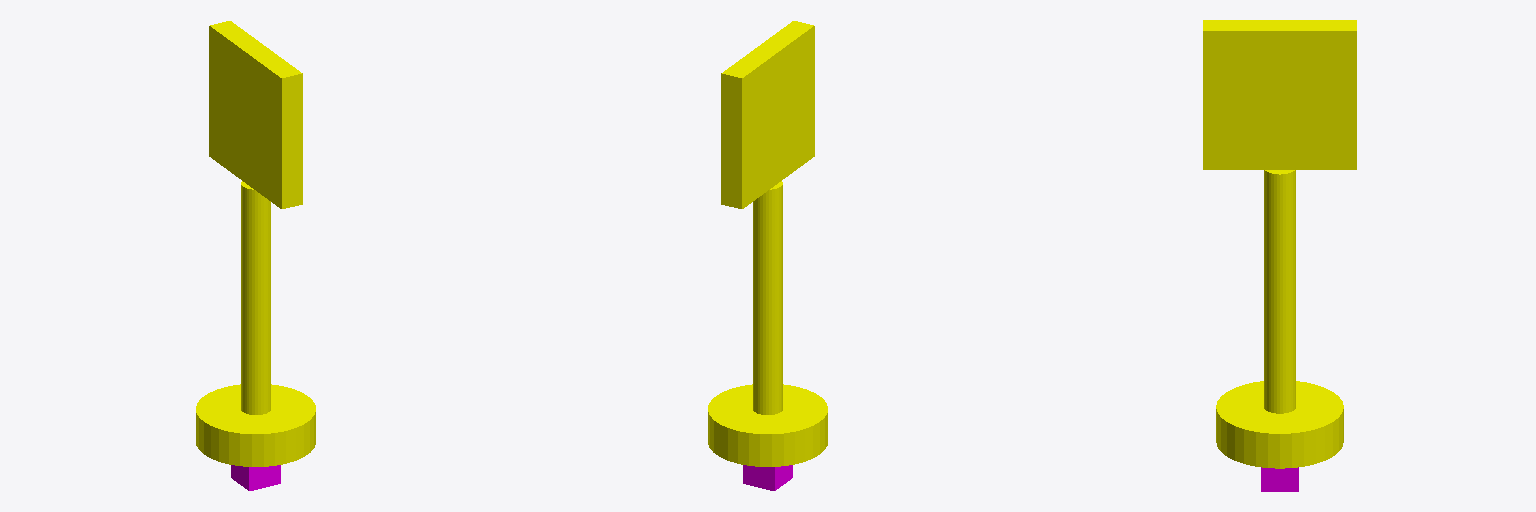
URDF robot description (mearm):
<?xml version="1.0" ?>
<robot name="mearm">
    <link name="base_link">
        <visual>
            <geometry>
                <box size="0.03 0.03 0.036" />
            </geometry>
            <material name="cyan">
                <color rgba="1 0 1 1" />
            </material>
            <origin rpy="0 0 0" xyz="0 0 0.018" />
        </visual>
        <collision>
            <geometry>
                <box size="0.03 0.03 0.036" />
            </geometry>
            <origin rpy="0 0 0" xyz="0 0 0.018" />
        </collision>
        <inertial>
            <mass value="0.1" />
            <origin xyz="0 0 0" rpy="0 0 0" />
            <inertia ixx="0.03" iyy="0.03" izz="0.03" ixy="0.0" ixz="0.0" iyz="0.0" />
        </inertial>
    </link>
    <link name="link1">
        <visual>
            <geometry>
                <cylinder length="0.03" radius="0.05" />
            </geometry>
            <material name="yellow">
                <color rgba="1 1 0 1" />
            </material>
            <origin rpy="0 0 0" xyz="0 0 0.015" />
        </visual>
        <collision>
            <geometry>
                <cylinder length="0.03" radius="0.05" />
            </geometry>
            <origin rpy="0 0 0" xyz="0 0 0.015" />
        </collision>
        <inertial>
            <mass value="0.1" />
            <origin xyz="0 0 0" rpy="0 0 0" />
            <inertia ixx="0.03" iyy="0.03" izz="0.03" ixy="0.0" ixz="0.0" iyz="0.0" />
        </inertial>
    </link>
    <link name="link2">
        <visual>
            <geometry>
                <cylinder length="0.102" radius="0.0125" />
            </geometry>
            <material name="yellow" />
            <origin rpy="0 0 0" xyz="0 0 0.051" />
        </visual>
        <collision>
            <geometry>
                <cylinder length="0.102" radius="0.0125" />
            </geometry>
            <origin rpy="0 0 0" xyz="0 0 0.051" />
        </collision>
        <inertial>
            <mass value="0.1" />
            <origin xyz="0 0 0" rpy="0 0 0" />
            <inertia ixx="0.03" iyy="0.03" izz="0.03" ixy="0.0" ixz="0.0" iyz="0.0" />
        </inertial>
    </link>
    <link name="link3">
        <visual>
            <geometry>
                <cylinder length="0.107" radius="0.0125" />
            </geometry>
            <material name="yellow" />
            <origin rpy="0 0 0" xyz="0 0 0.051" />
        </visual>
        <collision>
            <geometry>
                <cylinder length="0.107" radius="0.0125" />
            </geometry>
            <origin rpy="0 0 0" xyz="0 0 0.0535" />
        </collision>
        <inertial>
            <mass value="0.1" />
            <origin xyz="0 0 0" rpy="0 0 0" />
            <inertia ixx="0.03" iyy="0.03" izz="0.03" ixy="0.0" ixz="0.0" iyz="0.0" />
        </inertial>
    </link>
    <link name="gripper">
        <visual>
            <geometry>
                <box size="0.02 0.12 0.12" />
            </geometry>
            <material name="yellow" />
            <origin rpy="0 0 0" xyz="0 0 0.06" />
        </visual>
        <collision>
            <geometry>
                <box size="0.02 0.12 0.12" />
            </geometry>
            <origin rpy="0 0 0" xyz="0 0 0.06" />
        </collision>
        <inertial>
            <mass value="0.1" />
            <origin xyz="0 0 0" rpy="0 0 0" />
            <inertia ixx="0.03" iyy="0.03" izz="0.03" ixy="0.0" ixz="0.0" iyz="0.0" />
        </inertial>
    </link>
    <!--
  <link name="upper_arm">
    <visual>
      <geometry>
        <cylinder length="0.8" radius="0.05"/>
      </geometry>
      <material name="yellow"/>
      <origin rpy="0 0 0" xyz="0 0 0.4"/>
    </visual>
	<collision>
      <geometry>
        <cylinder length="0.8" radius="0.05"/>
      </geometry>
      <origin rpy="0 0 0" xyz="0 0 0.4"/>
    </collision>
  </link>

  <link name="hand">
    <visual>
      <geometry>
        <box size="0.05 0.05 0.05"/>
      </geometry>
      <material name="yellow"/>
    </visual>
    <collision>
      <geometry>
        <box size="0.05 0.05 0.05"/>
      </geometry>
      <origin rpy="0 0 0" xyz="0 0 0"/>
    </collision>
  </link>


-->
    <!--
  <joint name="fixed" type="fixed">
    <parent link="world"/>
    <child link="base_link"/>
  </joint>
-->
    <joint name="shoulder" type="revolute">
        <axis xyz="0 0 1" />
        <parent link="base_link" />
        <child link="link1" />
        <origin rpy="0 0 0" xyz="0.0 0.0 0.036" />
        <limit effort="30" velocity="1.0" lower="-2.094" upper="2.094" />
    </joint>
    <joint name="arm" type="revolute">
        <origin rpy="0 0 0" xyz="0 0 0.03" />
        <parent link="link1" />
        <child link="link2" />
        <axis xyz="0 1 0" />
        <limit effort="30" velocity="1.0" lower="-1.57" upper="1.57" />
    </joint>
    <joint name="arm2" type="revolute">
        <origin rpy="0 0 0" xyz="0 0 0.102" />
        <parent link="link2" />
        <child link="link3" />
        <axis xyz="0 1 0" />
        <limit effort="30" velocity="1.0" lower="-2.094" upper="2.094" />
    </joint>
    <joint name="gripper_joint" type="revolute">
        <origin rpy="0 0 0" xyz="0 0 0.107" />
        <parent link="link3" />
        <child link="gripper" />
        <axis xyz="0 1 0" />
        <limit effort="30" velocity="1.0" lower="-2.094" upper="2.094" />
    </joint>
    <!--
  <joint name="elbow" type="revolute">
    <origin rpy="0 0 0" xyz="0.0 0.0 0.8"/>
    <parent link="lower_arm"/>
    <child link="upper_arm"/>
    <axis xyz="0 1 0"/>
    <limit effort="30" velocity="1.0" lower="1.54" upper="2.75" />
  </joint>    

  <joint name="wrist" type="revolute">
    <axis xyz="1 0 0"/>
    <parent link="lower_arm"/>
    <child link="hand"/>
    <origin rpy="0 0 0" xyz="0.0 0.0 0.805"/>
    <limit effort="30" velocity="1.0" lower="0.0" upper="2.7" />
  </joint>
-->
    <transmission name="trans_shoulder">
        <type>transmission_interface/SimpleTransmission</type>
        <joint name="shoulder">
            <hardwareInterface>hardware_interface/EffortJointInterface</hardwareInterface>
        </joint>
        <actuator name="shoulder_motor">
            <hardwareInterface>hardware_interface/EffortJointInterface</hardwareInterface>
            <mechanicalReduction>1</mechanicalReduction>
        </actuator>
    </transmission>
    <transmission name="trans_arm">
        <type>transmission_interface/SimpleTransmission</type>
        <joint name="arm">
            <hardwareInterface>hardware_interface/EffortJointInterface</hardwareInterface>
        </joint>
        <actuator name="arm_motor">
            <hardwareInterface>hardware_interface/EffortJointInterface</hardwareInterface>
            <mechanicalReduction>1</mechanicalReduction>
        </actuator>
    </transmission>
    <transmission name="trans_arm2">
        <type>transmission_interface/SimpleTransmission</type>
        <joint name="arm2">
            <hardwareInterface>hardware_interface/EffortJointInterface</hardwareInterface>
        </joint>
        <actuator name="arm2_motor">
            <hardwareInterface>hardware_interface/EffortJointInterface</hardwareInterface>
            <mechanicalReduction>1</mechanicalReduction>
        </actuator>
    </transmission>
    <transmission name="trans_gripper_joint">
        <type>transmission_interface/SimpleTransmission</type>
        <joint name="gripper_joint">
            <hardwareInterface>hardware_interface/EffortJointInterface</hardwareInterface>
        </joint>
        <actuator name="gripper_joint_motor">
            <hardwareInterface>hardware_interface/EffortJointInterface</hardwareInterface>
            <mechanicalReduction>1</mechanicalReduction>
        </actuator>
    </transmission>
    <gazebo>
        <plugin name="gazebo_ros_control">
            <robotNamespace>/</robotNamespace>
        </plugin>
    </gazebo>
</robot>

--- Render facts (derived) ---
The picture shows the robot from 3 angles, left to right: view 1: azimuth 30°, elevation 25°; view 2: azimuth 150°, elevation 25°; view 3: azimuth 270°, elevation 25°; orthographic projection.
Model mearm with 5 links and 4 joints (4 revolute), rooted at base_link, posed all joints at 0.
Links seen in each view (by area): view 1: gripper, link1, link3, link2, base_link; view 2: gripper, link1, link3, link2, base_link; view 3: gripper, link1, link3, link2, base_link.
Link boxes in pixels (x1,y1,x2,y2): gripper: (209,21,302,208); link1: (196,384,315,466); link3: (241,181,270,306); link2: (241,299,270,414); base_link: (231,465,280,490); gripper: (721,21,814,208); link1: (708,384,827,466); link3: (753,181,782,306); link2: (753,299,782,414); base_link: (743,465,792,490); gripper: (1203,20,1356,169); link1: (1216,381,1343,468); link3: (1264,170,1295,297); link2: (1264,290,1295,413); base_link: (1261,467,1298,491).
Size in the robot's own frame: 0.1 by 0.12 by 0.395 metres.
Geometry: primitives only (box / cylinder / sphere), no mesh files.